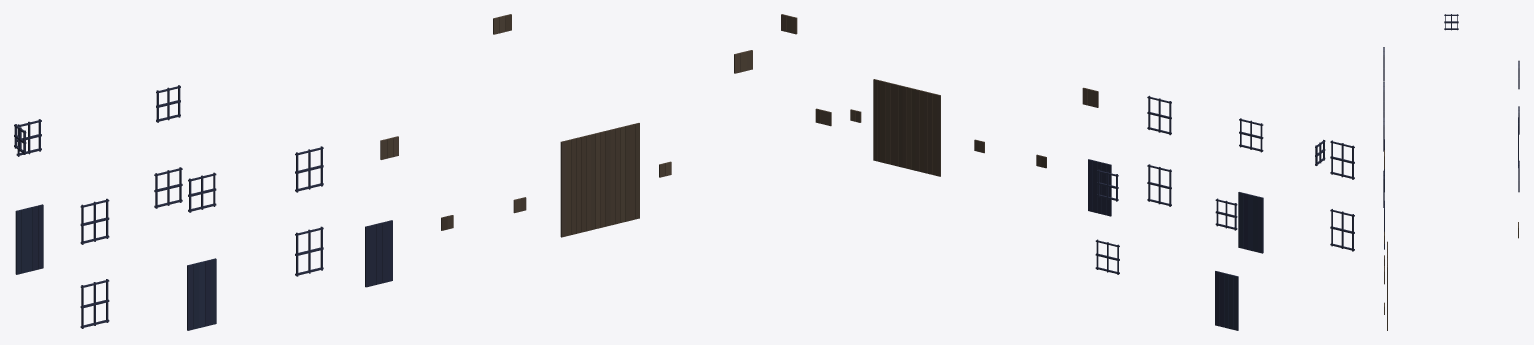
Rendered from SM_Bld_230_Wood.glb.
The picture shows the model from 3 angles, left to right: view 1: azimuth 30°, elevation 25°; view 2: azimuth 150°, elevation 25°; view 3: azimuth 270°, elevation 25°; orthographic projection. The views are drawn at different scales.
Parts seen in each view (by area): view 1: SM_Bld_230_Wood; view 2: SM_Bld_230_Wood; view 3: SM_Bld_230_Wood.
Part boxes in pixels (bbox=[...]): SM_Bld_230_Wood: bbox=[14, 14, 752, 330]; SM_Bld_230_Wood: bbox=[781, 14, 1354, 330]; SM_Bld_230_Wood: bbox=[1383, 14, 1519, 330].
Size of the model in its own units: 22.55 by 6.15 by 5.83.
